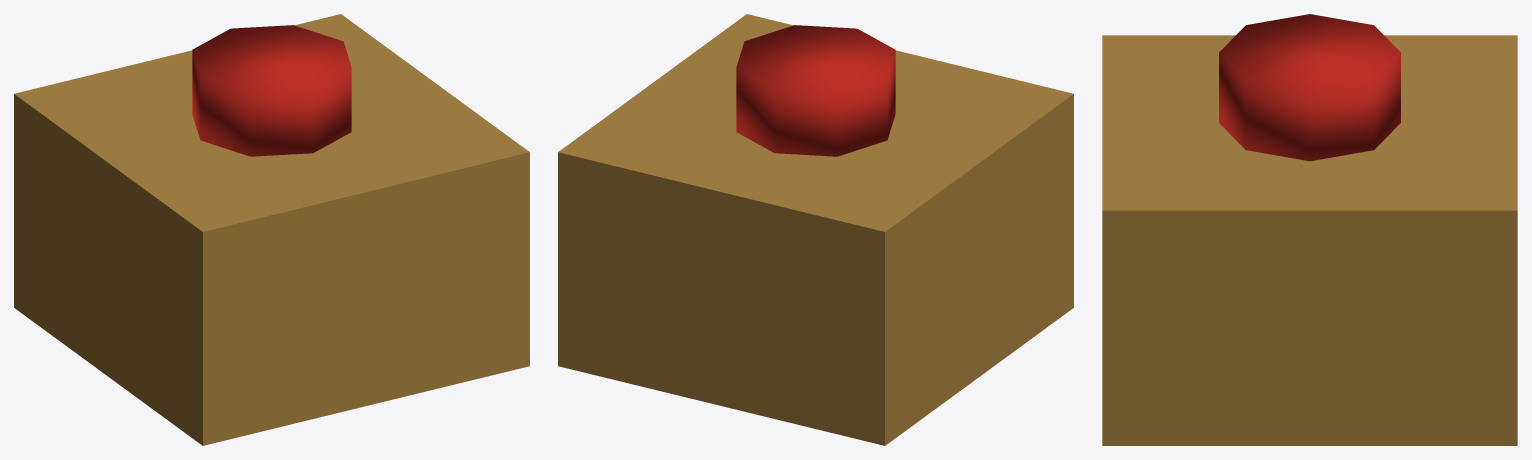
File: actuator.glb
The picture shows the model from 3 angles, left to right: view 1: azimuth 30°, elevation 25°; view 2: azimuth 150°, elevation 25°; view 3: azimuth 270°, elevation 25°; orthographic projection. The views are drawn at different scales.
Visible parts, largest first — view 1: actuator_v0; view 2: actuator_v0; view 3: actuator_v0.
Part boxes in pixels (x1,y1,x2,y2): actuator_v0: (14,14,529,445); actuator_v0: (558,14,1073,445); actuator_v0: (1102,14,1517,445).
Size of the model in its own units: 0.16 by 0.13 by 0.16.
